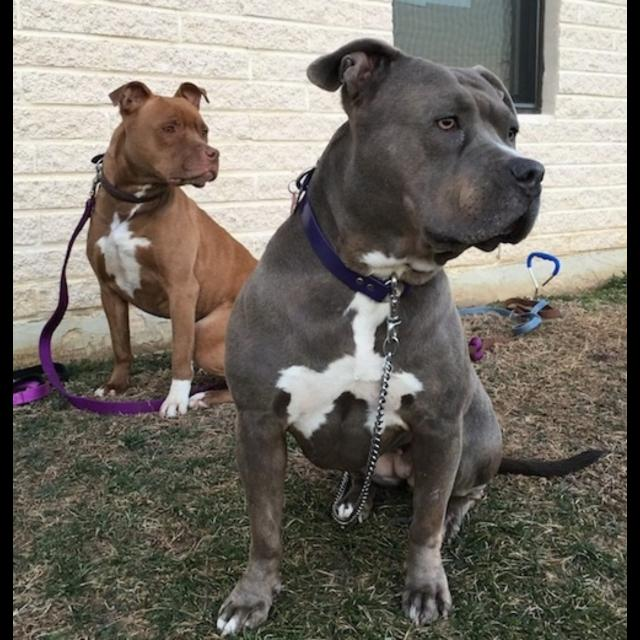am_pit_bull_terrier: (214, 37, 609, 639), (85, 80, 261, 420)
